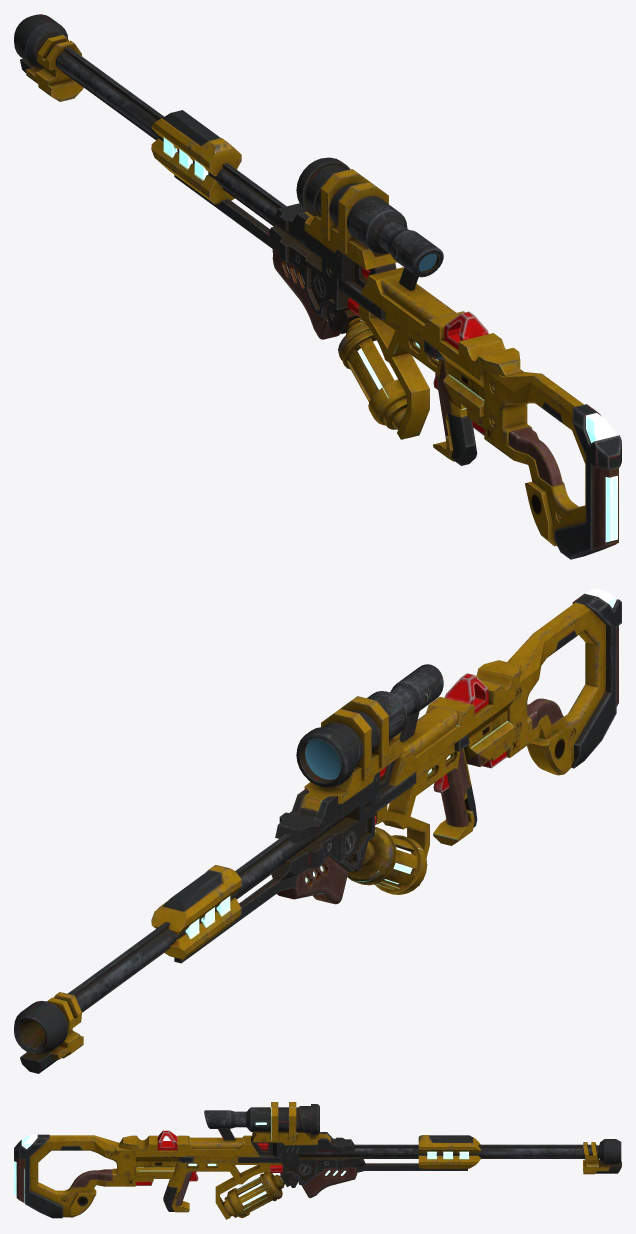
File: scavenger.glb
3 renders of one model, top to bottom at view 1: azimuth 30°, elevation 25°; view 2: azimuth 150°, elevation 25°; view 3: azimuth 270°, elevation 25°, orthographic. The views are drawn at different scales.
Visible parts, largest first — view 1: Object_3, Object_2; view 2: Object_3, Object_2; view 3: Object_3, Object_2.
Part boxes in pixels (left/top/right/bottom): Object_3: left=25, top=35, right=618, bottom=549; Object_2: left=14, top=14, right=621, bottom=559; Object_3: left=26, top=588, right=618, bottom=1059; Object_2: left=14, top=593, right=621, bottom=1073; Object_3: left=14, top=1102, right=609, bottom=1219; Object_2: left=14, top=1104, right=621, bottom=1218.
Size of the model in its own units: 0.2298 by 0.9025 by 4.4.
Materials: 2 (2 with a texture image).
